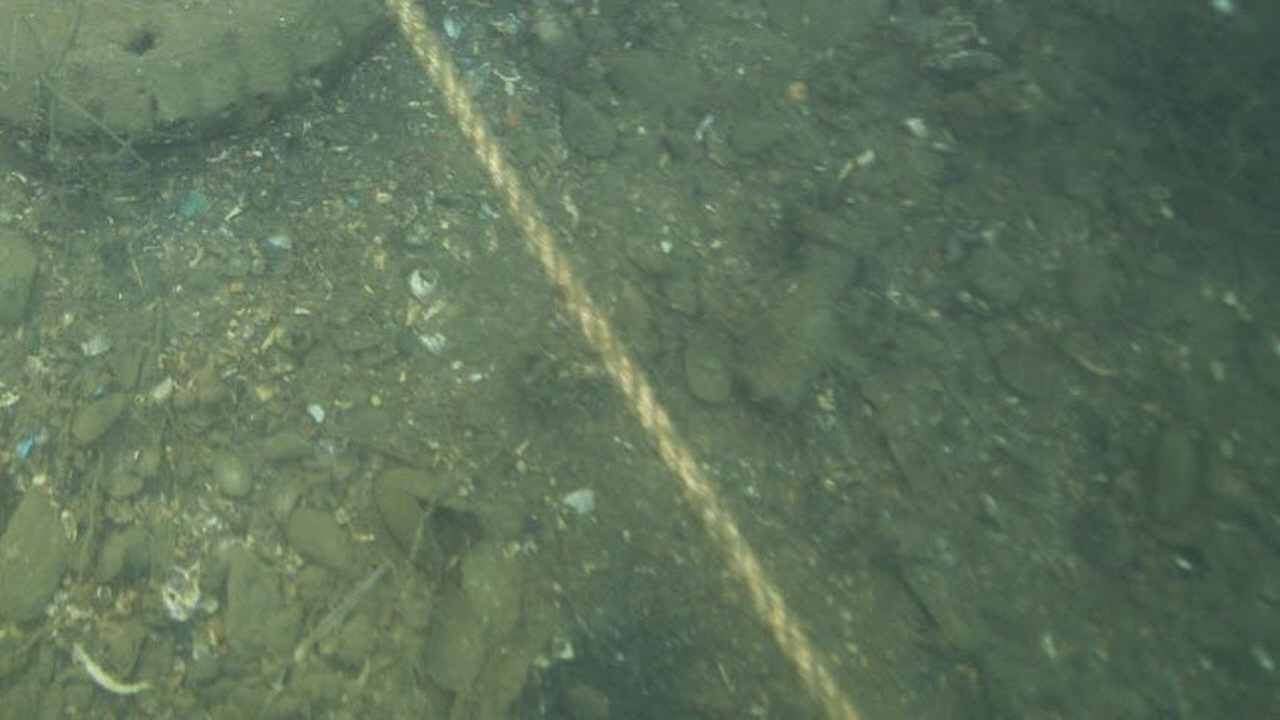rope: (375, 0, 861, 720)
